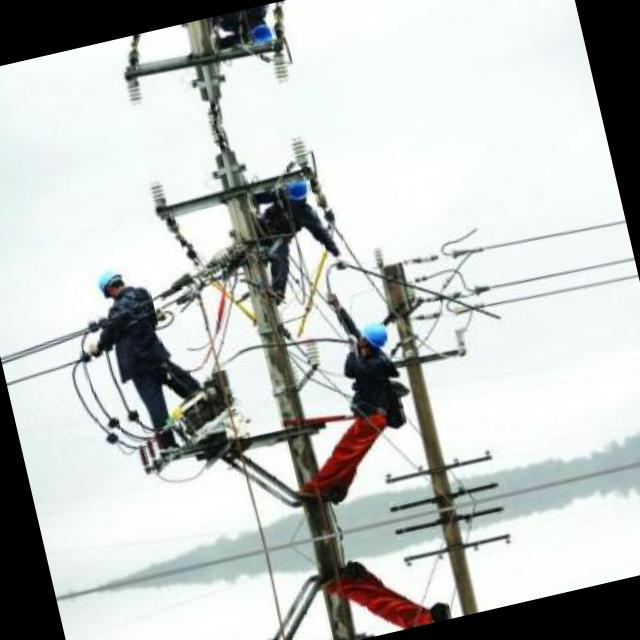helmet: (268, 167, 320, 213), (232, 12, 284, 58), (348, 316, 391, 359), (86, 264, 130, 306)
